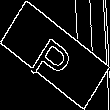P_NE: (29, 24, 81, 86)
